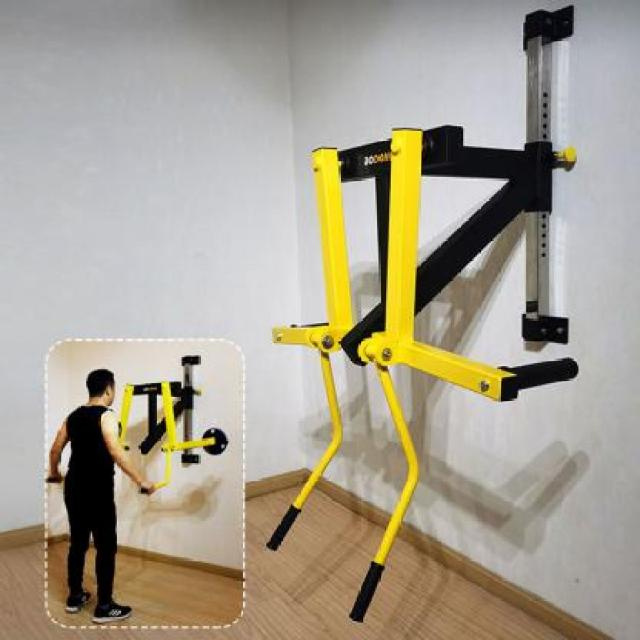lateral raises machine: (268, 5, 583, 626), (118, 354, 231, 497)
